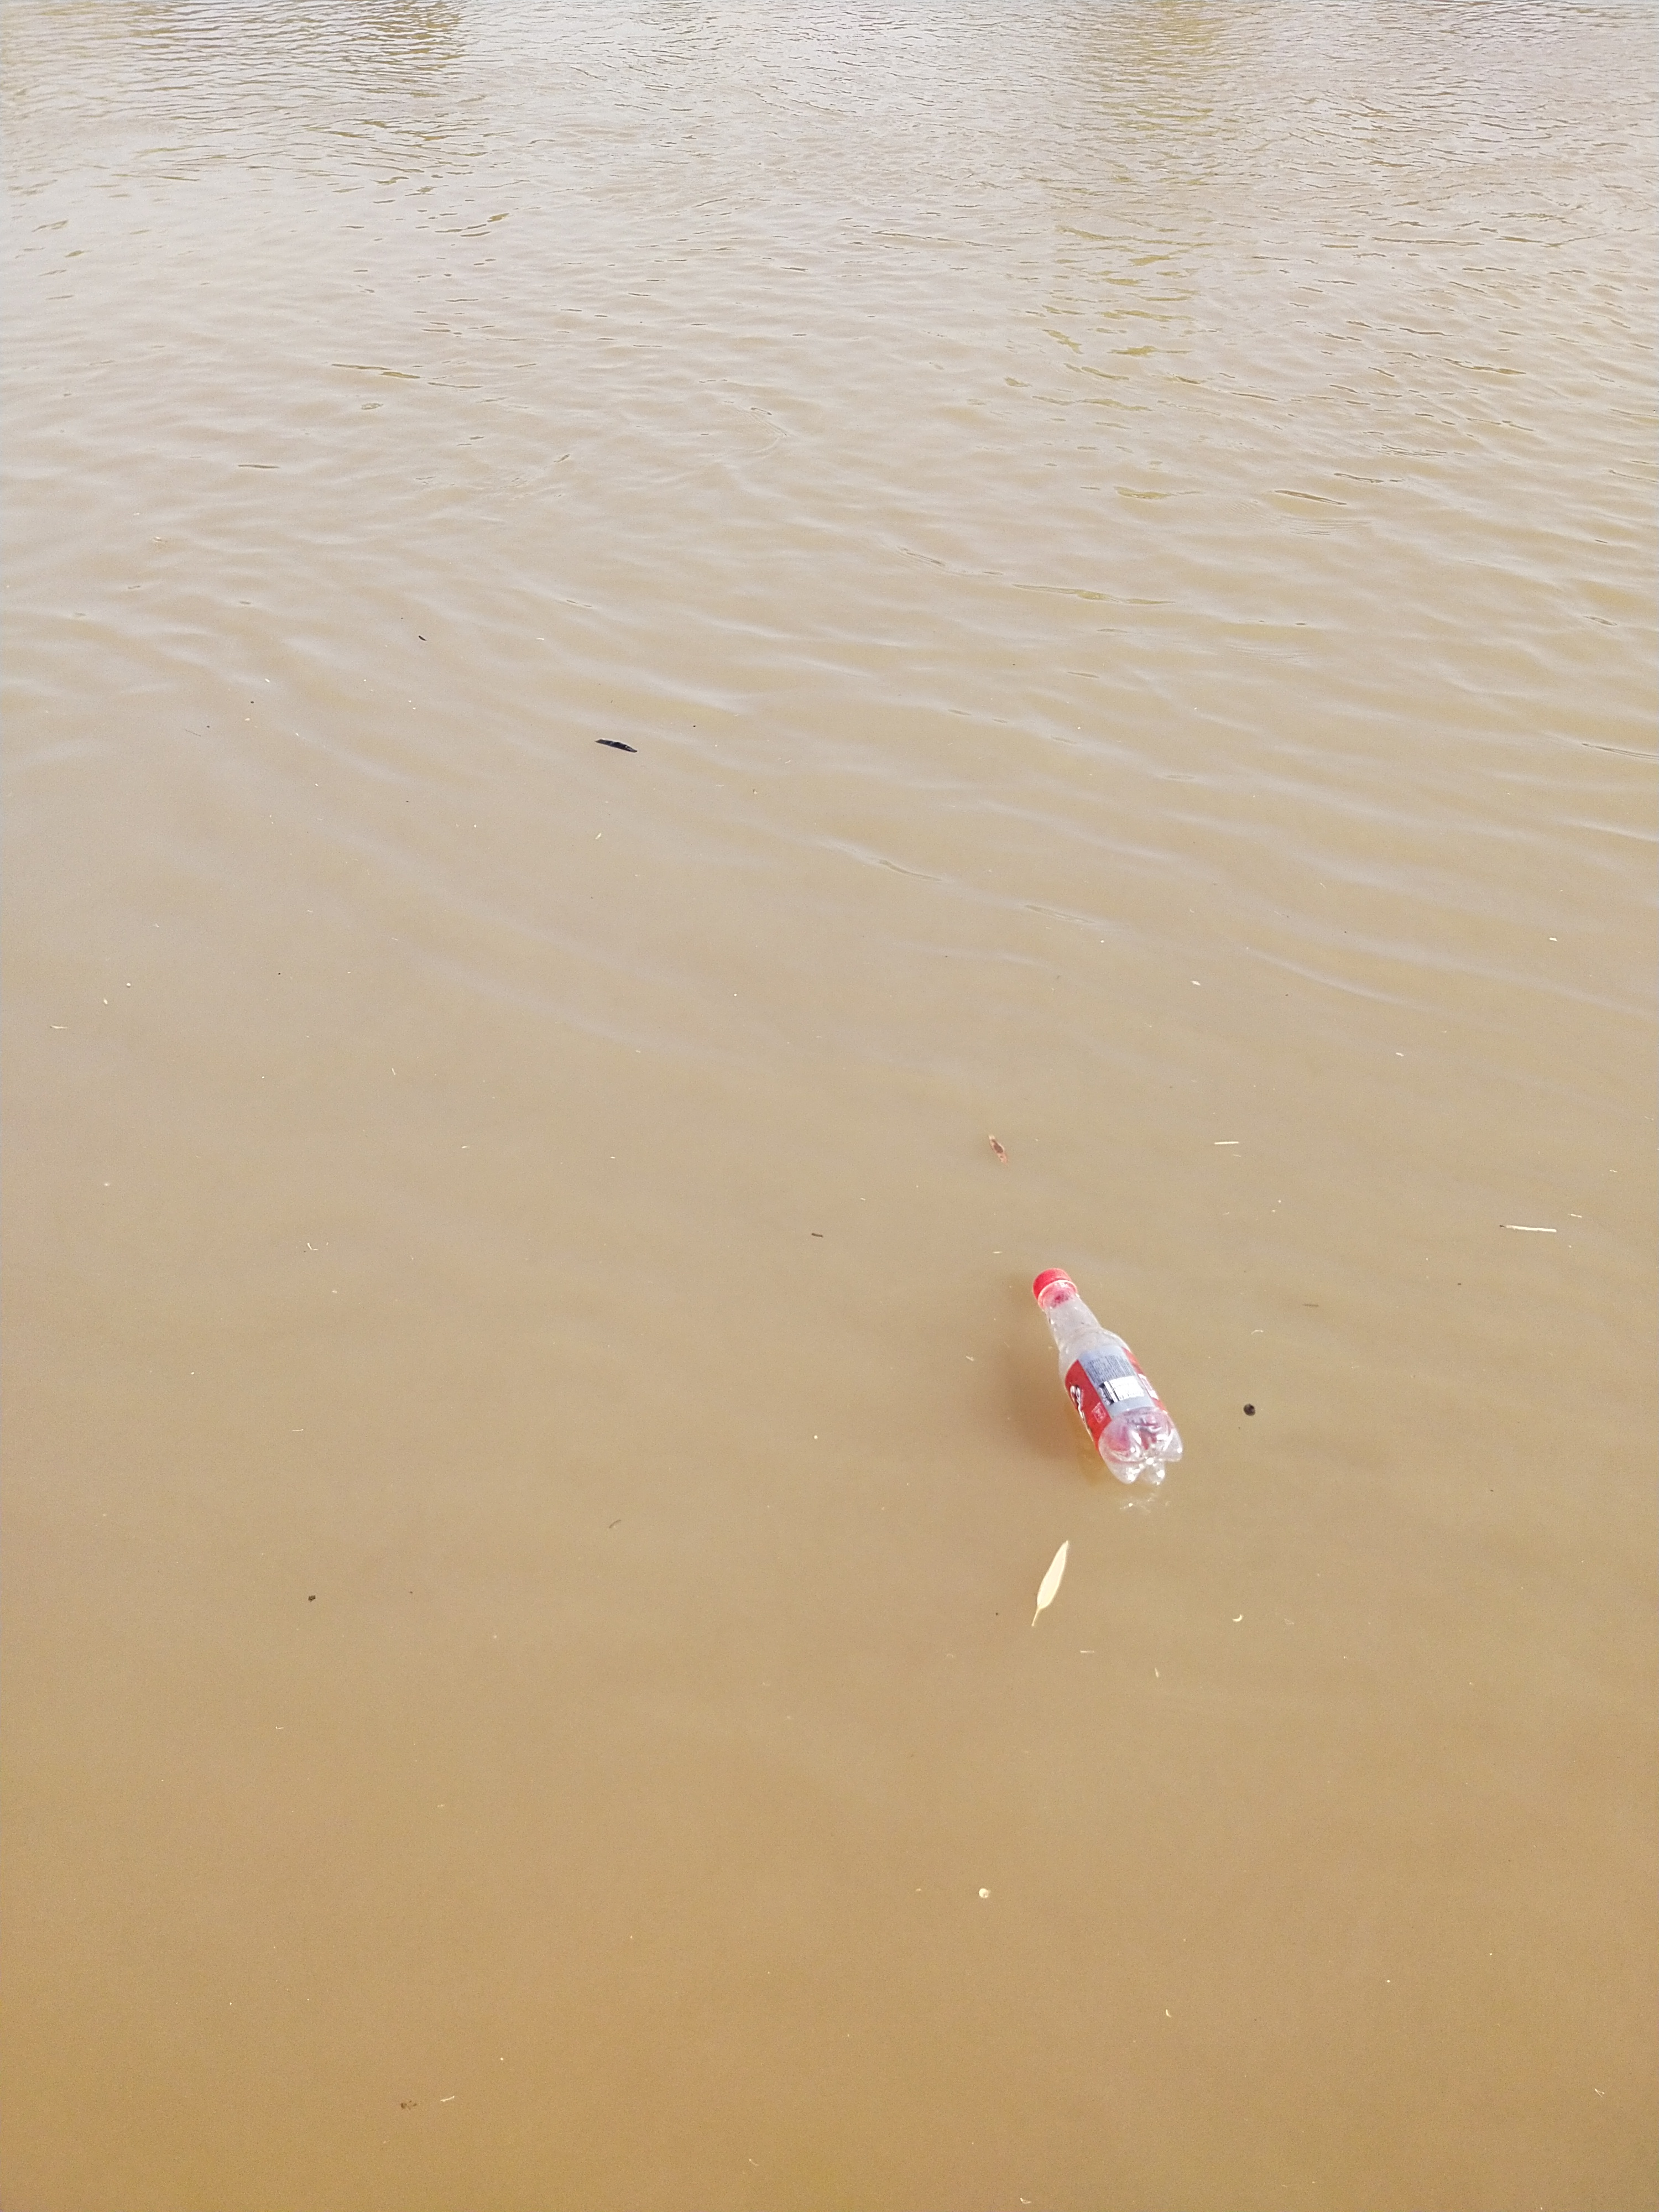Plastic Bottle: (1032, 1263, 1183, 1484)
